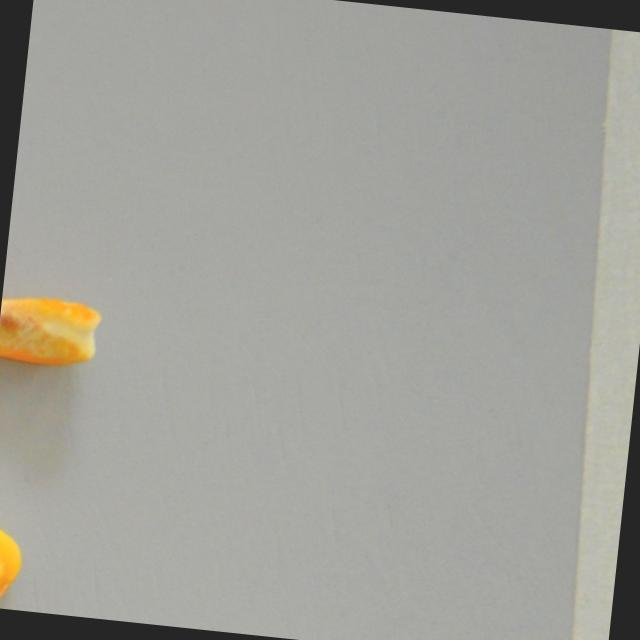dañado: (0, 294, 102, 371)
pelicula: (0, 514, 27, 610)
